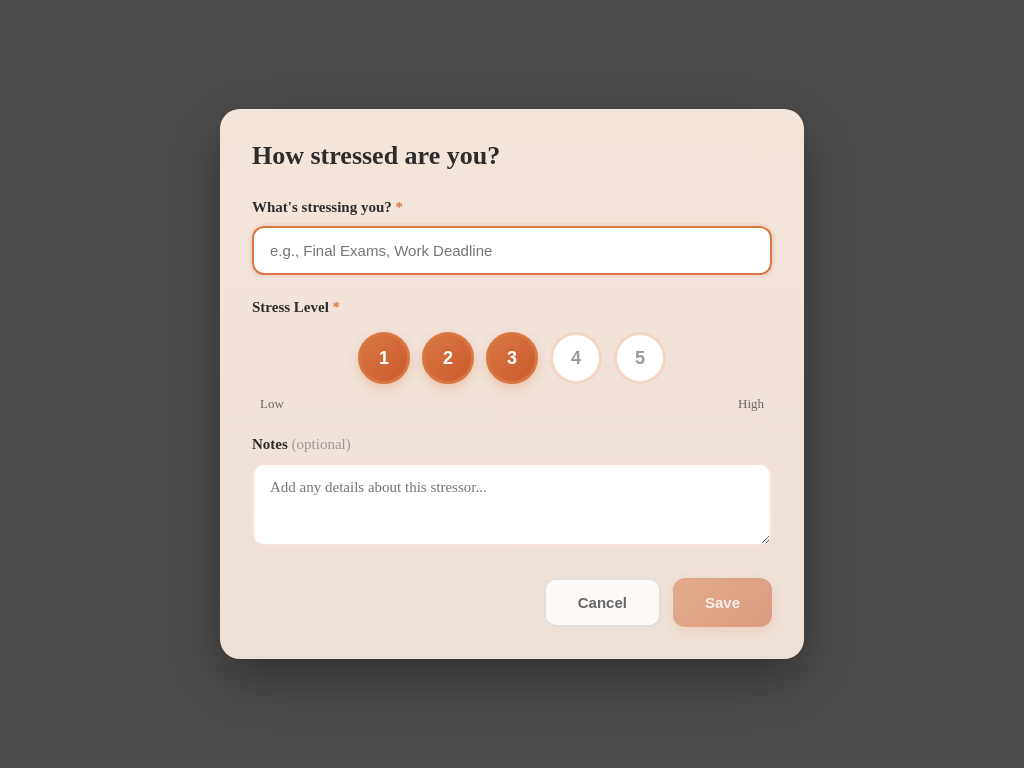
it: AddStressorModal Component › should enable save button when name is filled
Type "Test Stressor" into the field labelled "What's stressing you? *" at (512, 250), box 252,226 -> 772,275
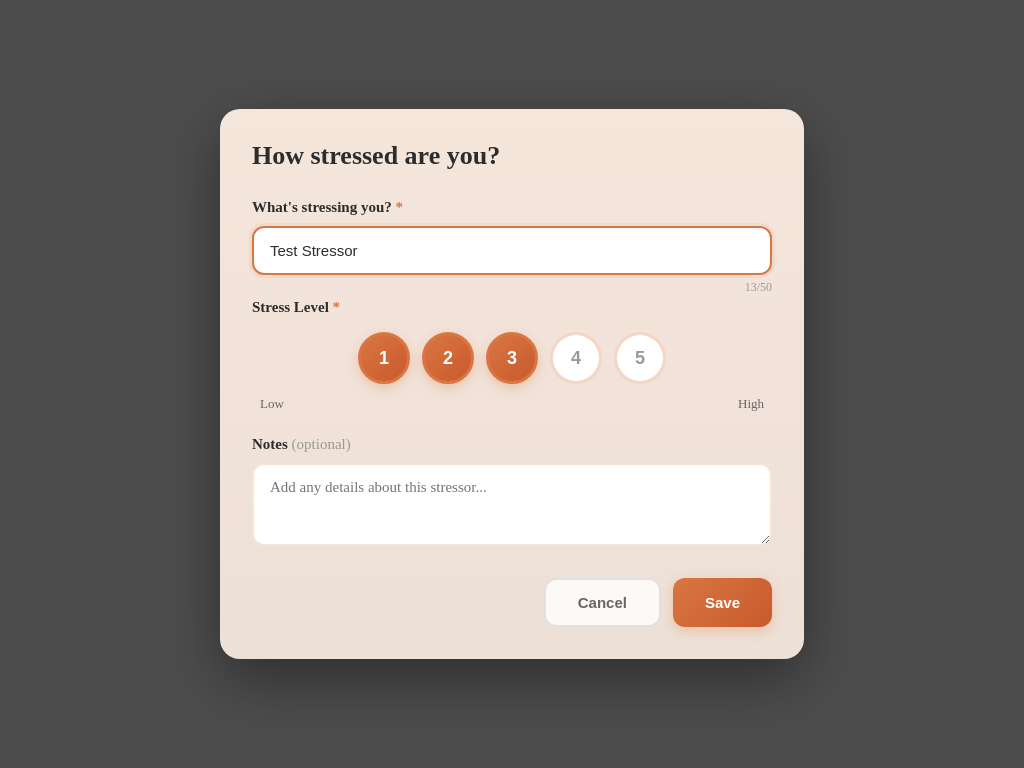
Now the button "Save" is enabled, box 673,578 -> 772,627
